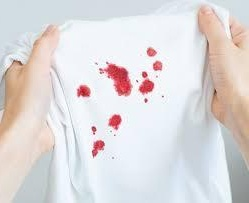blood: (107, 64, 131, 96), (140, 80, 155, 94), (92, 140, 105, 156), (109, 114, 122, 129), (78, 84, 89, 98), (147, 48, 157, 56), (154, 62, 163, 70), (141, 70, 150, 78), (92, 126, 97, 134)
